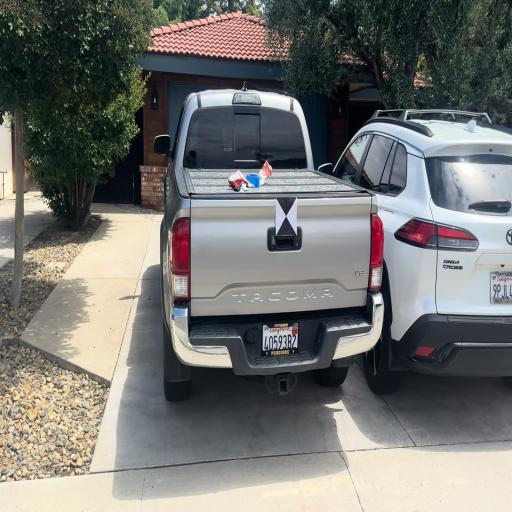target: (276, 196, 297, 236)
